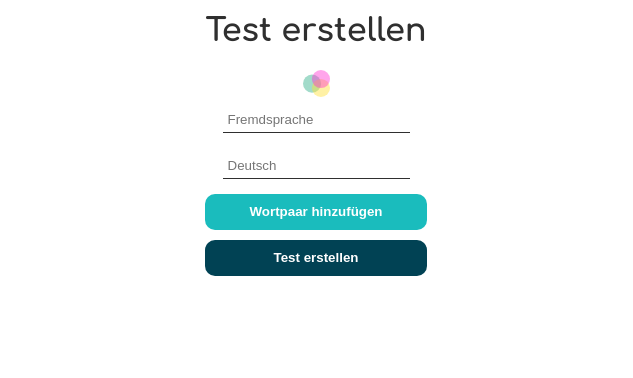
it: removes wordpairs from the list
This screenshot has width=633, height=378.
Type "the car" into the field with placeholder "Fremdsprache" at (316,120), box [222,107,410,133]
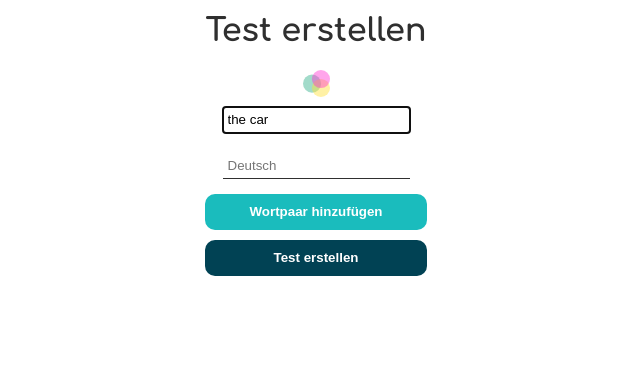
Type "das Auto" into the field with placeholder "Deutsch" at (316,166), box [222,153,410,179]
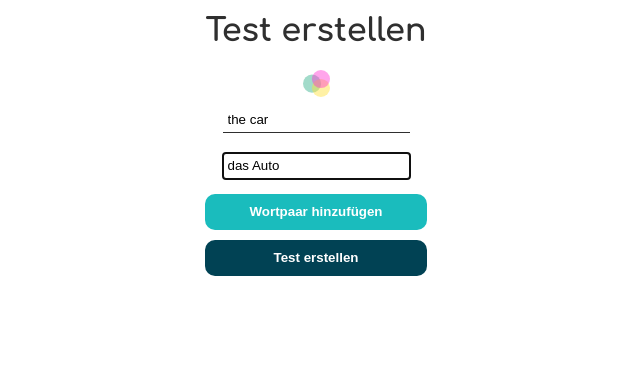
Click the button "Wortpaar hinzufügen" at (316,212), box [205,194,427,230]
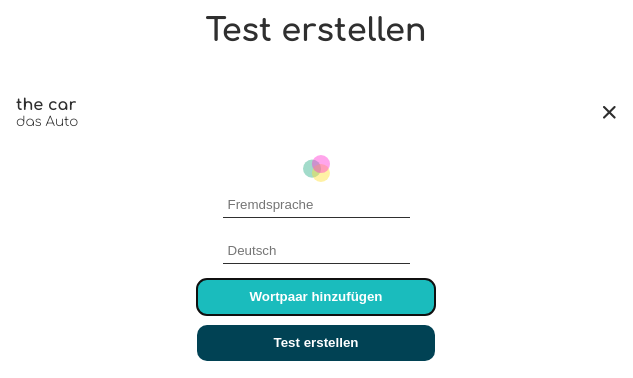
Click the icon in the row of "the car" at (610,112), box [603,106,616,119]
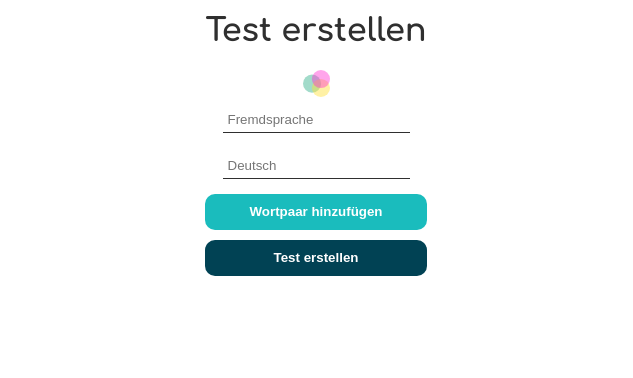
Expected: the text "the car" is gone
Expected: the text "das Auto" is gone
